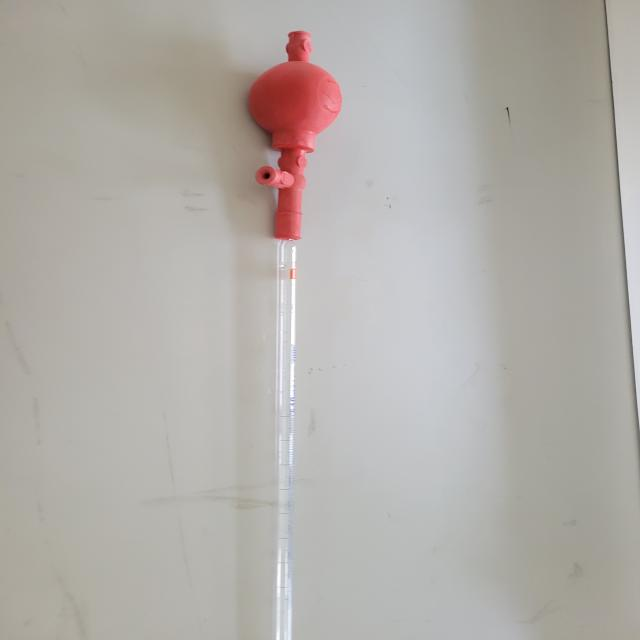Volumetric_Pipet: (199, 19, 389, 640)
